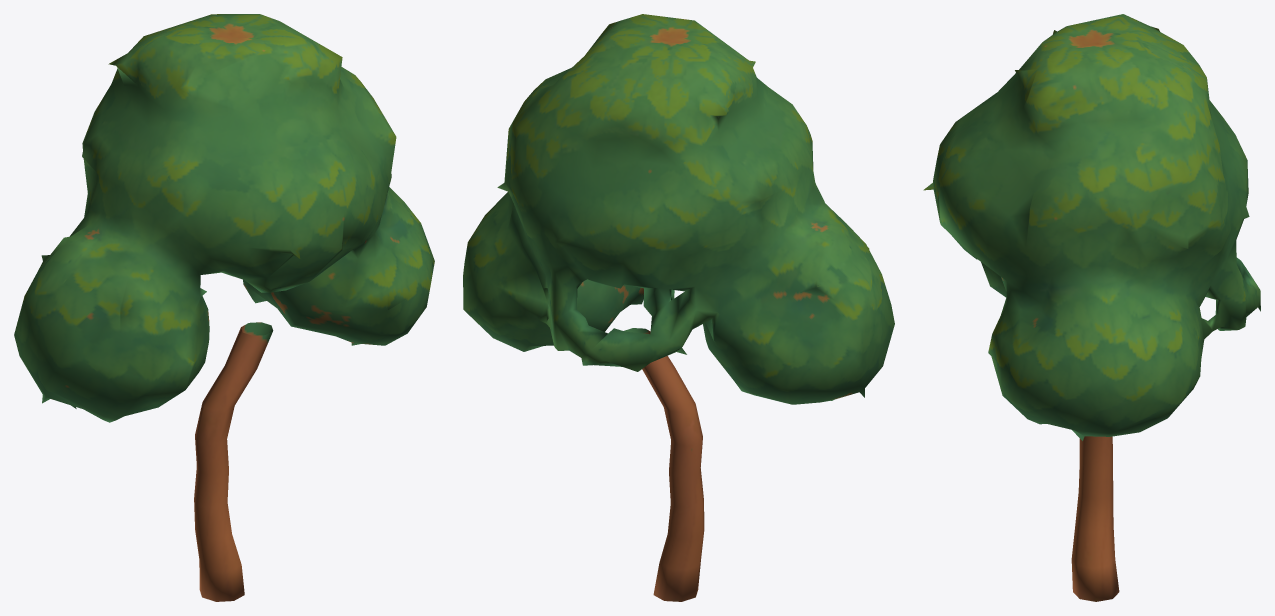
Rendered from tree_a.glb.
3 views of the same model, side by side, from view 1: azimuth 30°, elevation 25°; view 2: azimuth 150°, elevation 25°; view 3: azimuth 270°, elevation 25° (orthographic).
Visible parts, largest first — view 1: tree_a; view 2: tree_a; view 3: tree_a.
Part boxes in pixels (x1,y1,x2,y2): tree_a: (14,14,434,601); tree_a: (463,14,894,601); tree_a: (923,14,1260,601).
Size of the model in its own units: 6.57 by 8.85 by 4.86.
1 material, 1 textured.
